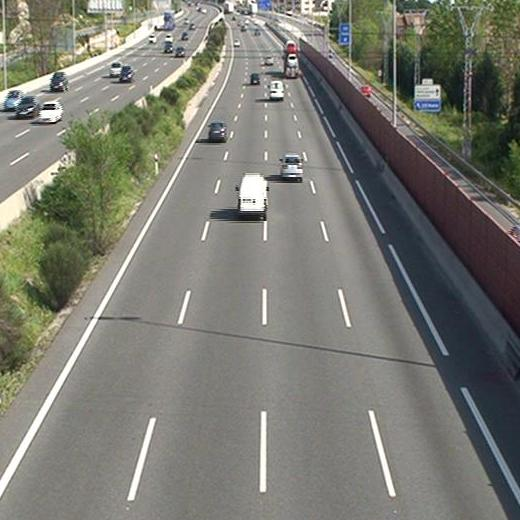car: (280, 154, 303, 179), (208, 121, 226, 140), (287, 54, 298, 66), (264, 54, 274, 64), (250, 72, 259, 83), (285, 43, 295, 51)
van: (237, 174, 267, 216), (269, 81, 284, 98)
